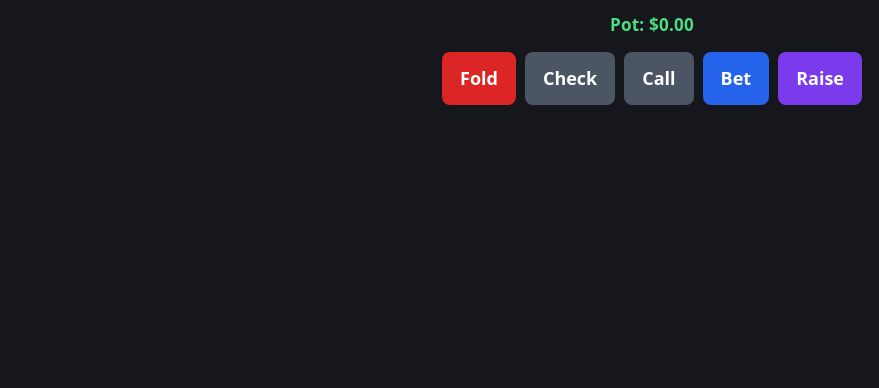
Test: PlayerActionButtons › Bet API failure dismisses ChipPicker and shows error
# Open ChipPicker via Bet
Click the button with test id "action-bet". click: point(736, 78)
box: [703,52,769,105]
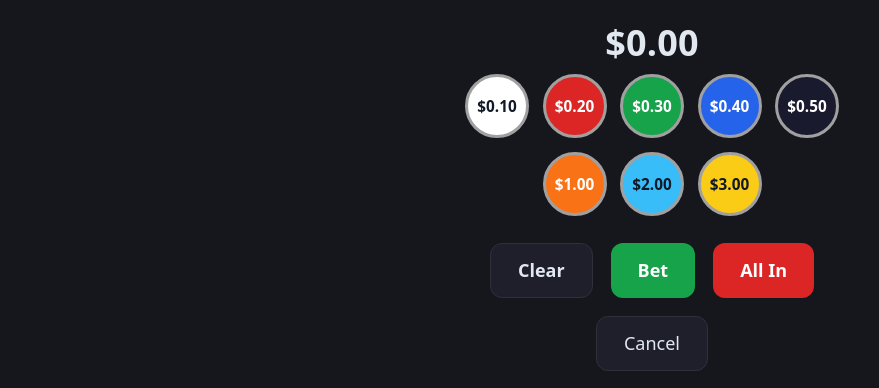
Expected: the button with test id "chip-confirm" is shown, [611,243,695,298]
# Select a chip and confirm
Click the button with test id "chip-0.50". click: point(807, 106)
box: [775,74,839,138]
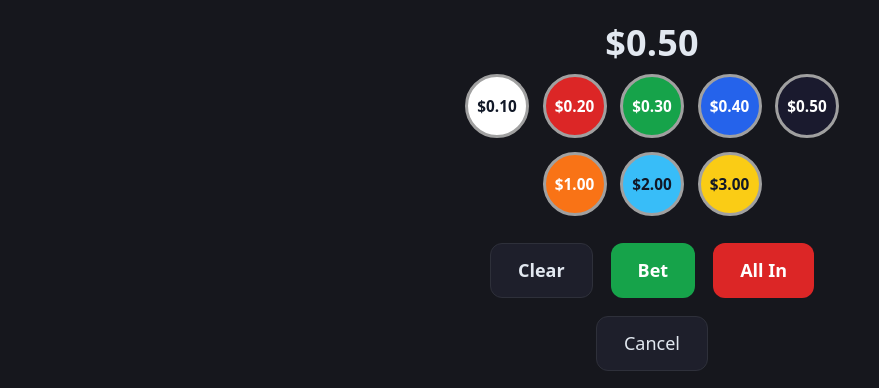
Click the button with test id "chip-confirm". click: point(653, 270)
box: [611,243,695,298]
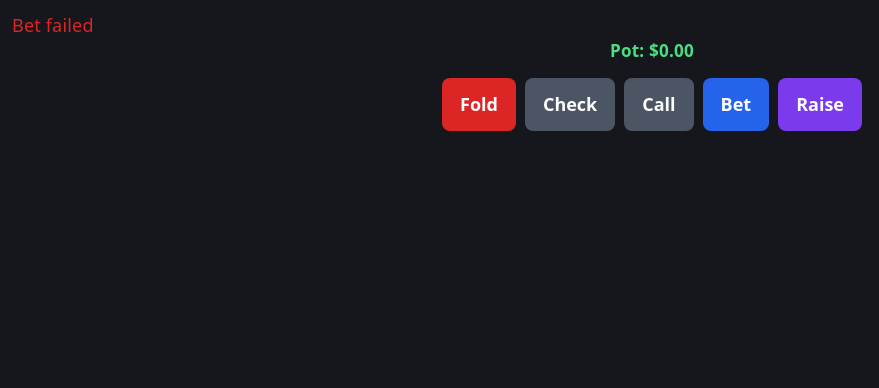
Result: the button with test id "action-fold" is shown at [442,78,516,131]
Result: the text with test id "action-error" reads "Bet failed" at [12,13,94,37]
